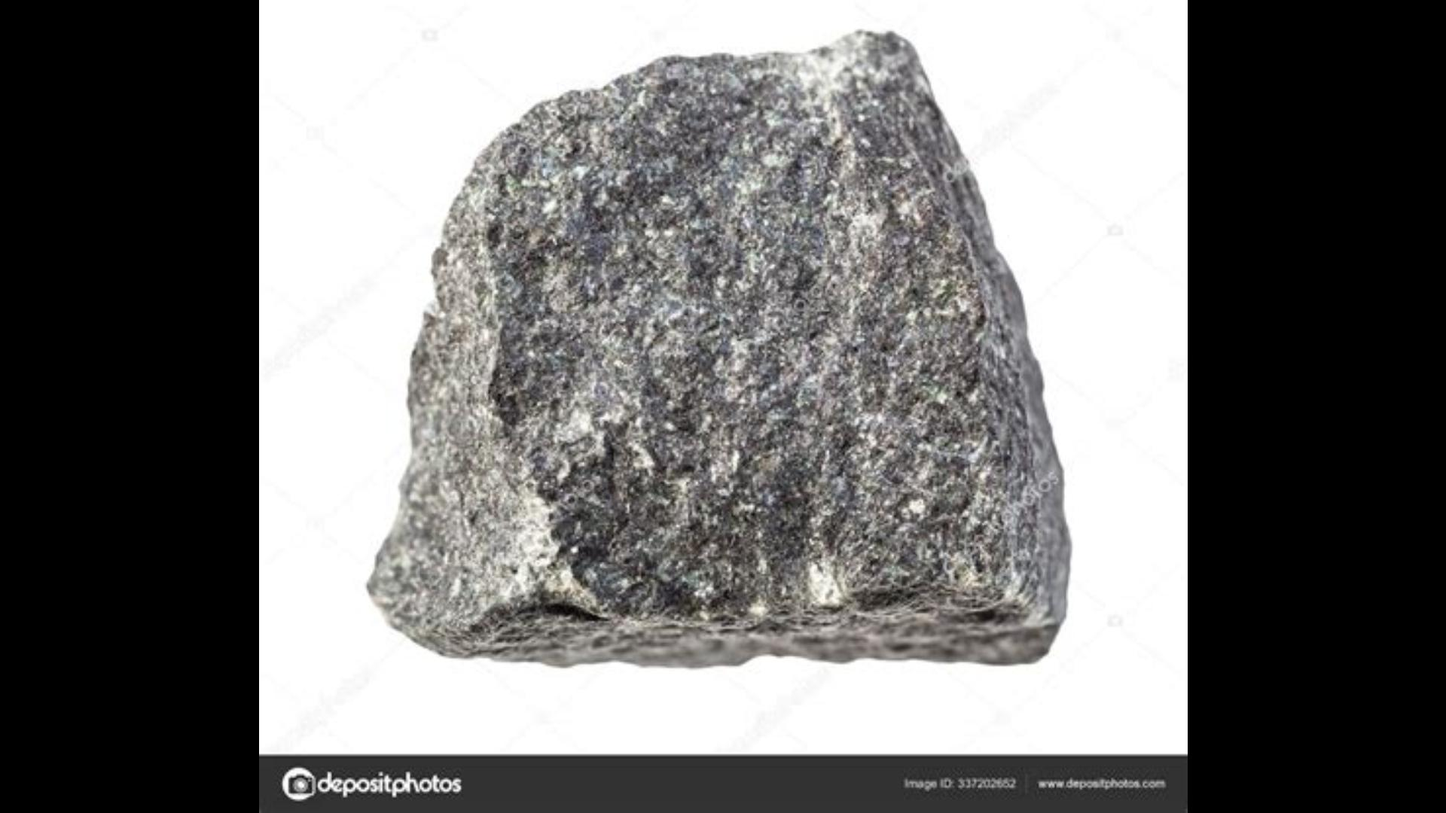rock: (368, 33, 1066, 662)
